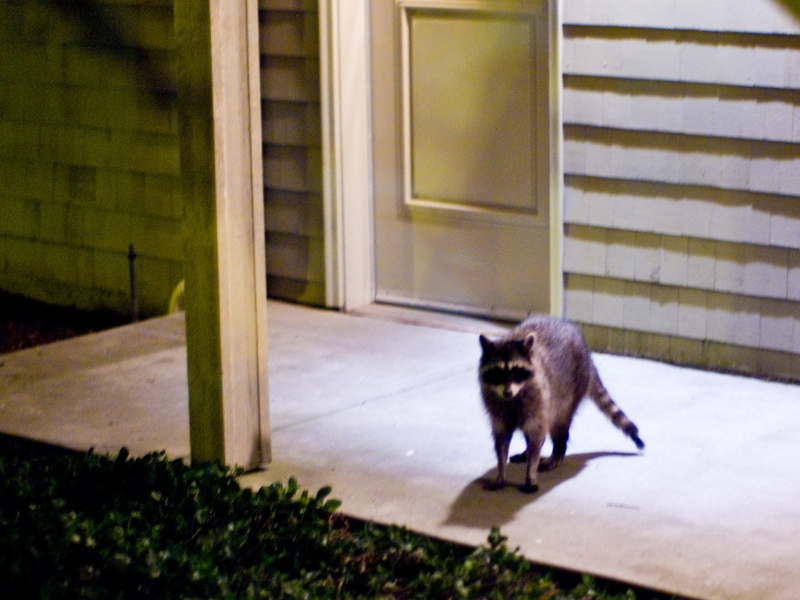raccoon: (476, 314, 647, 495)
